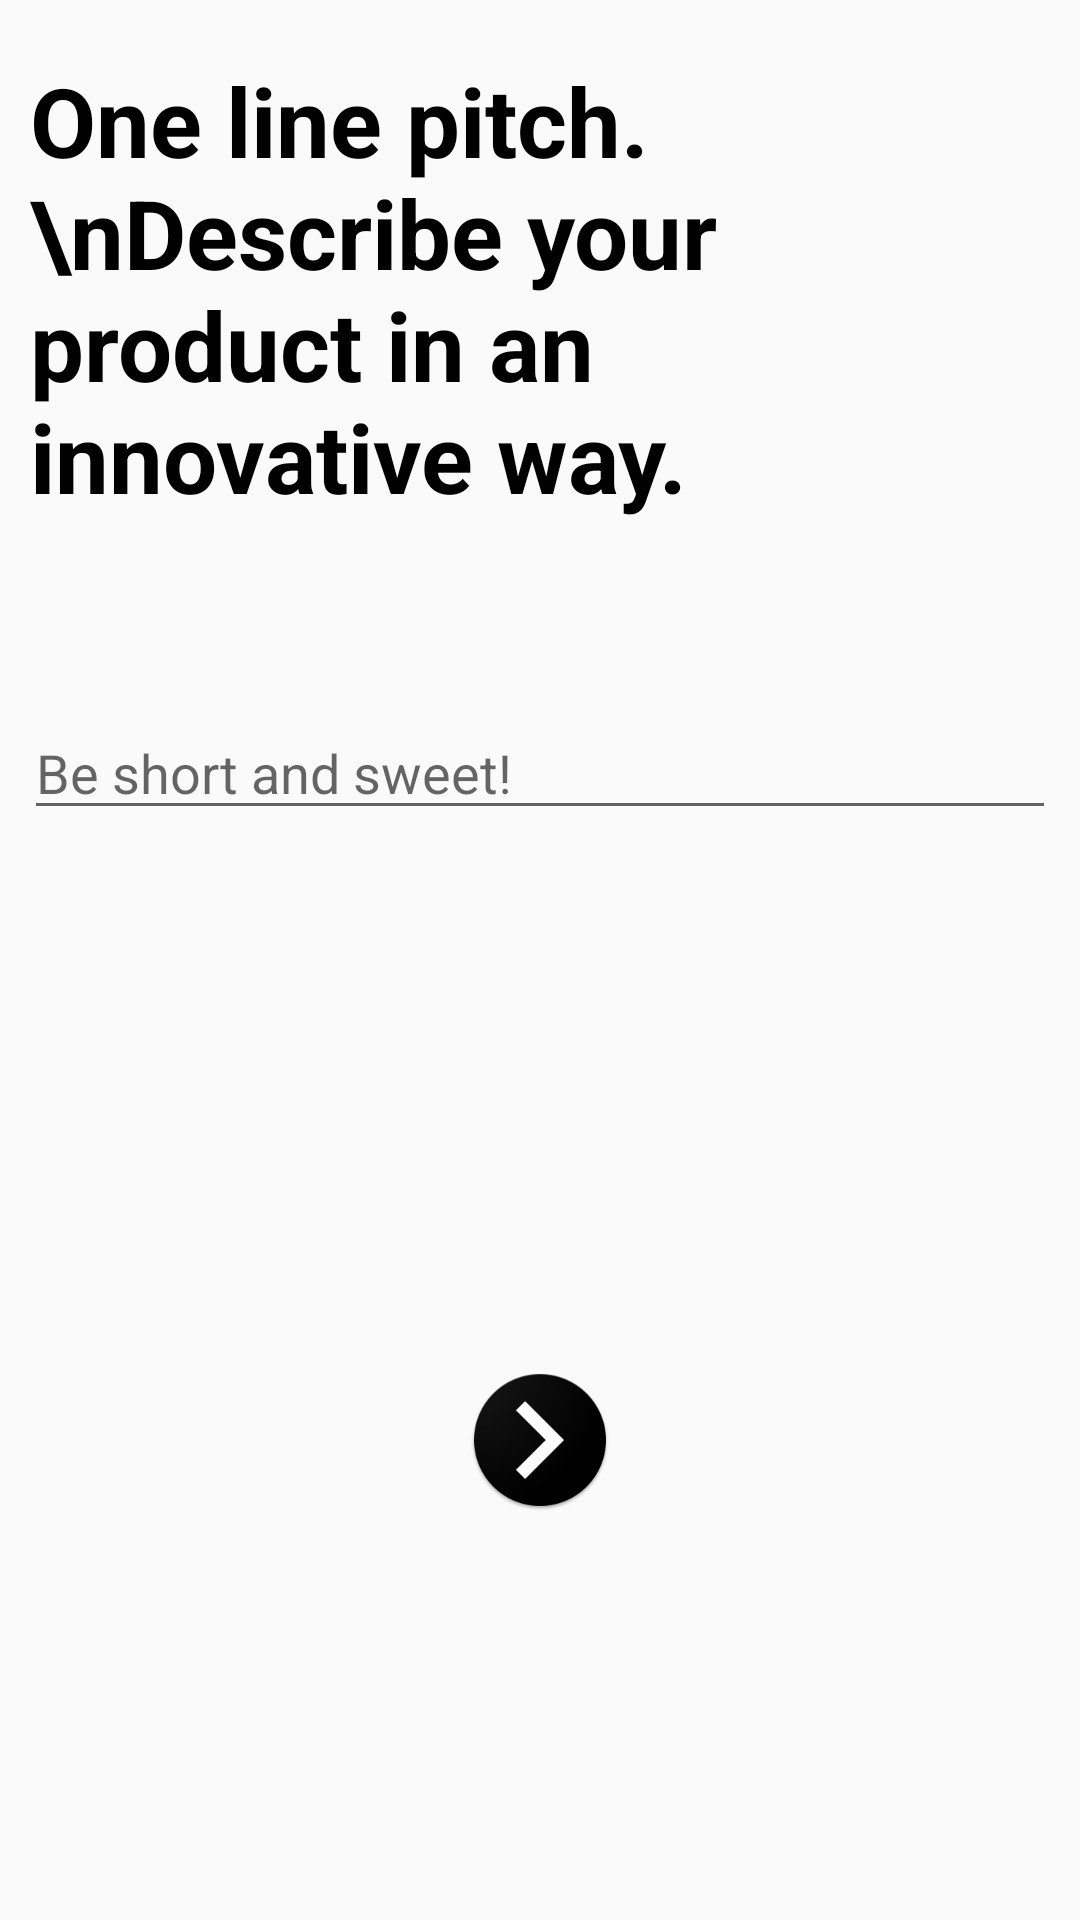

Point at icon controls on the screen. Image size 1080px x 1920px, points as [x,y].
next: [539,1441]
